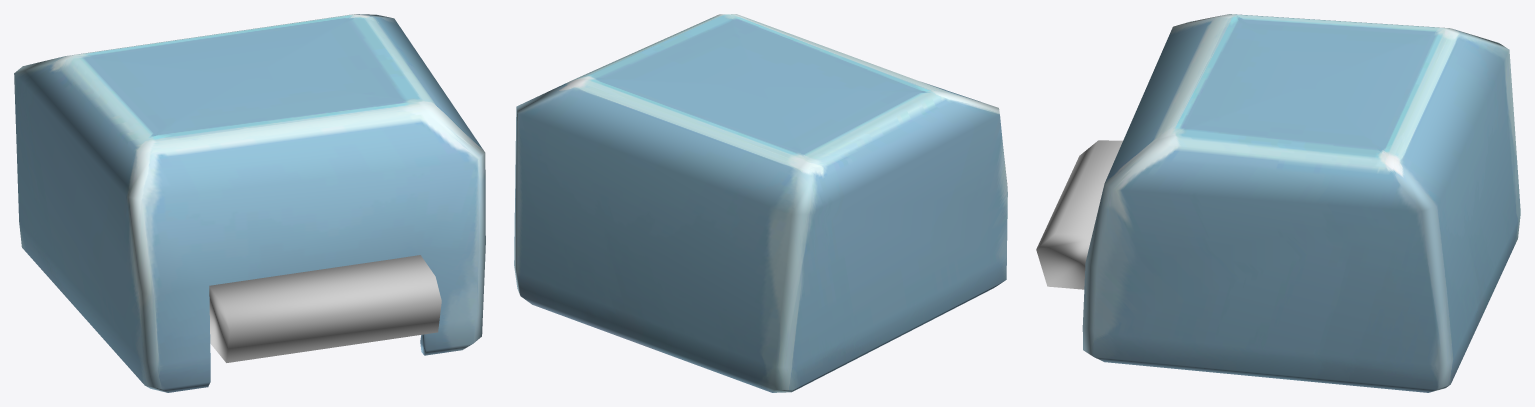
File: Opening_LID.fbx
The picture shows the model from 3 angles, left to right: view 1: azimuth 30°, elevation 25°; view 2: azimuth 150°, elevation 25°; view 3: azimuth 270°, elevation 25°; orthographic projection. The views are drawn at different scales.
Parts seen in each view (by area): view 1: buttonLid, hinge; view 2: buttonLid; view 3: buttonLid, hinge.
Part boxes in pixels (bbox=[...]): buttonLid: bbox=[14, 14, 485, 392]; hinge: bbox=[209, 255, 441, 362]; buttonLid: bbox=[514, 14, 1007, 392]; buttonLid: bbox=[1082, 14, 1520, 392]; hinge: bbox=[1036, 140, 1122, 289].
Size of the model in its own units: 0.1117 by 0.0608 by 0.121.
